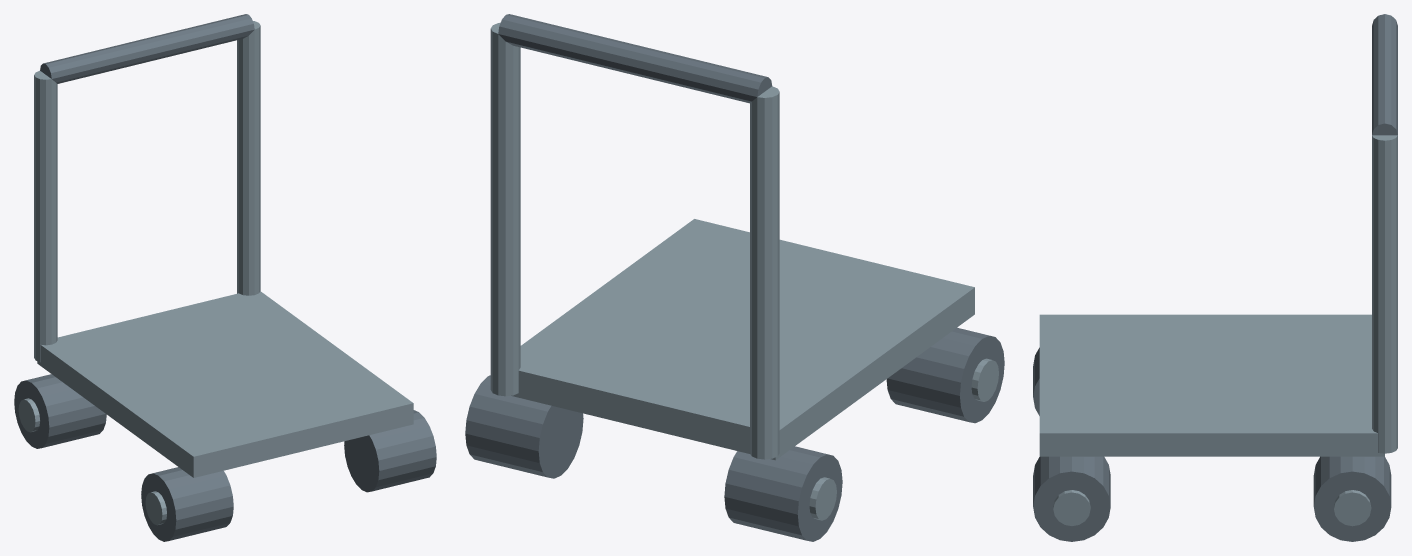
Rendered from handcart.glb.
The picture shows the model from 3 angles, left to right: view 1: azimuth 30°, elevation 25°; view 2: azimuth 150°, elevation 25°; view 3: azimuth 270°, elevation 25°; orthographic projection. The views are drawn at different scales.
Visible parts, largest first — view 1: handcart_008, handcart_009, handcart_010, handcart_011, handcart_004, handcart_000, handcart_002, handcart_001, handcart_003; view 2: handcart_008, handcart_010, handcart_009, handcart_011, handcart_002, handcart_006, handcart_000, handcart_001, handcart_003; view 3: handcart_008, handcart_010, handcart_006, handcart_004, handcart_011, handcart_005, handcart_007.
Boxes of the visible parts, x1,y1,x2,y2 form: handcart_008: [37, 291, 413, 477]; handcart_009: [34, 70, 57, 362]; handcart_010: [237, 21, 260, 295]; handcart_011: [40, 14, 254, 83]; handcart_004: [344, 410, 436, 492]; handcart_000: [141, 467, 233, 541]; handcart_002: [14, 374, 106, 448]; handcart_001: [145, 491, 166, 525]; handcart_003: [18, 398, 39, 432]; handcart_008: [511, 219, 974, 460]; handcart_010: [490, 22, 520, 396]; handcart_009: [750, 86, 779, 459]; handcart_011: [498, 14, 772, 103]; handcart_002: [724, 446, 842, 541]; handcart_006: [465, 375, 583, 478]; handcart_000: [886, 327, 1004, 423]; handcart_001: [971, 358, 998, 401]; handcart_003: [809, 477, 836, 520]; handcart_008: [1039, 314, 1384, 456]; handcart_010: [1372, 135, 1397, 453]; handcart_006: [1313, 456, 1391, 541]; handcart_004: [1033, 456, 1110, 541]; handcart_011: [1372, 14, 1397, 135]; handcart_005: [1053, 490, 1090, 525]; handcart_007: [1334, 490, 1371, 526].
Size of the model in its own units: 0.798 by 1.03 by 0.845.
